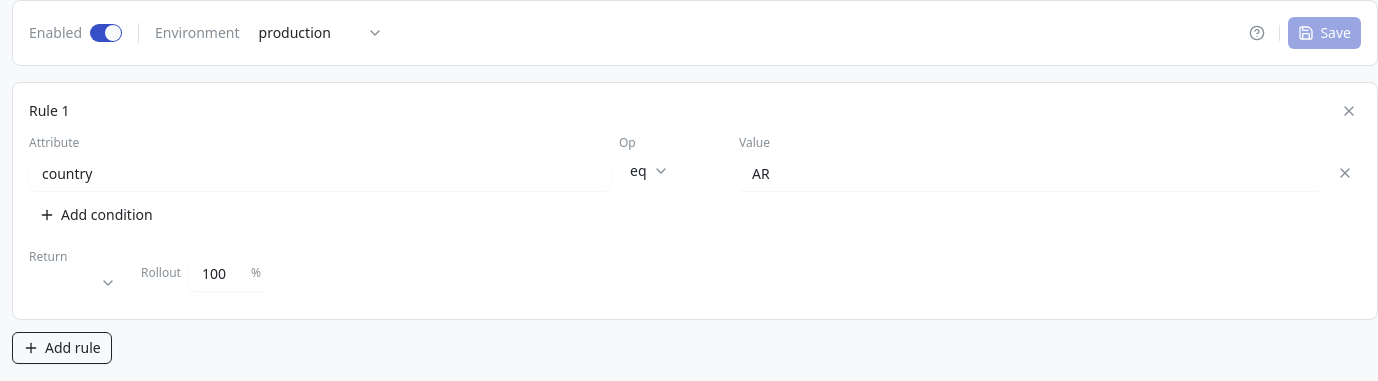
Test: RuleEditor › shows error on version conflict
Type "x" into the field named "Attribute" at (320, 173), box x1=29 y1=155 x2=611 y2=191
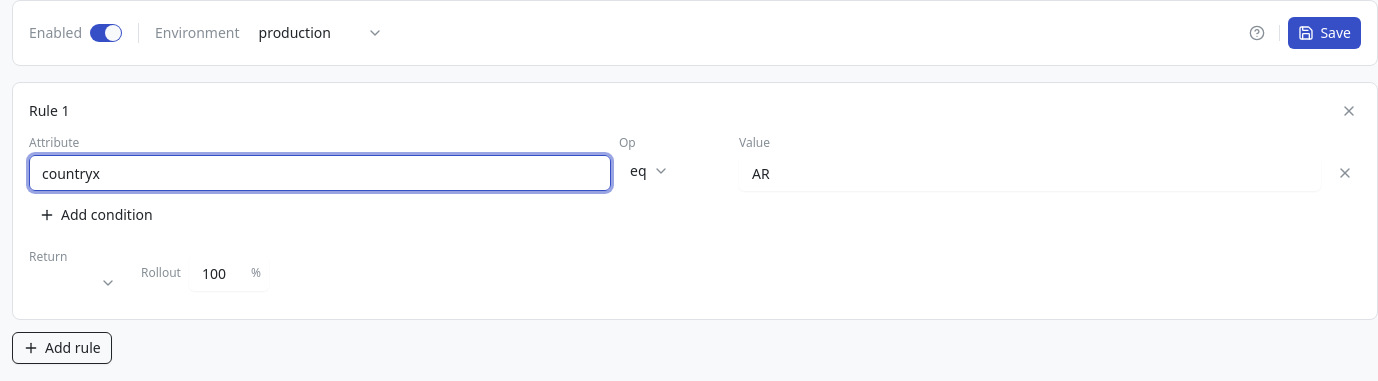
Click the button "Save" at (1325, 33), box x1=1288 y1=17 x2=1361 y2=49
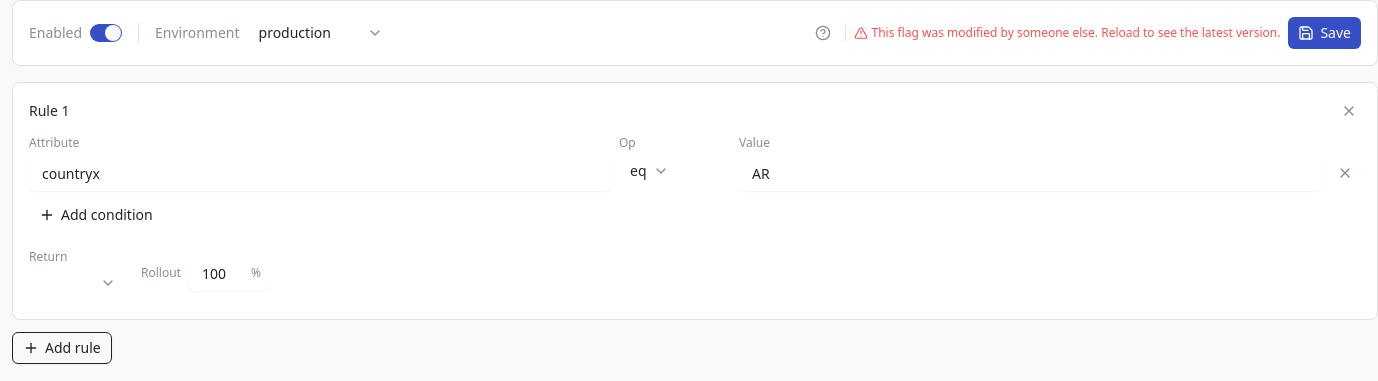
expect the text "modified by someone else" is shown: met, box x1=872 y1=24 x2=1280 y2=41
